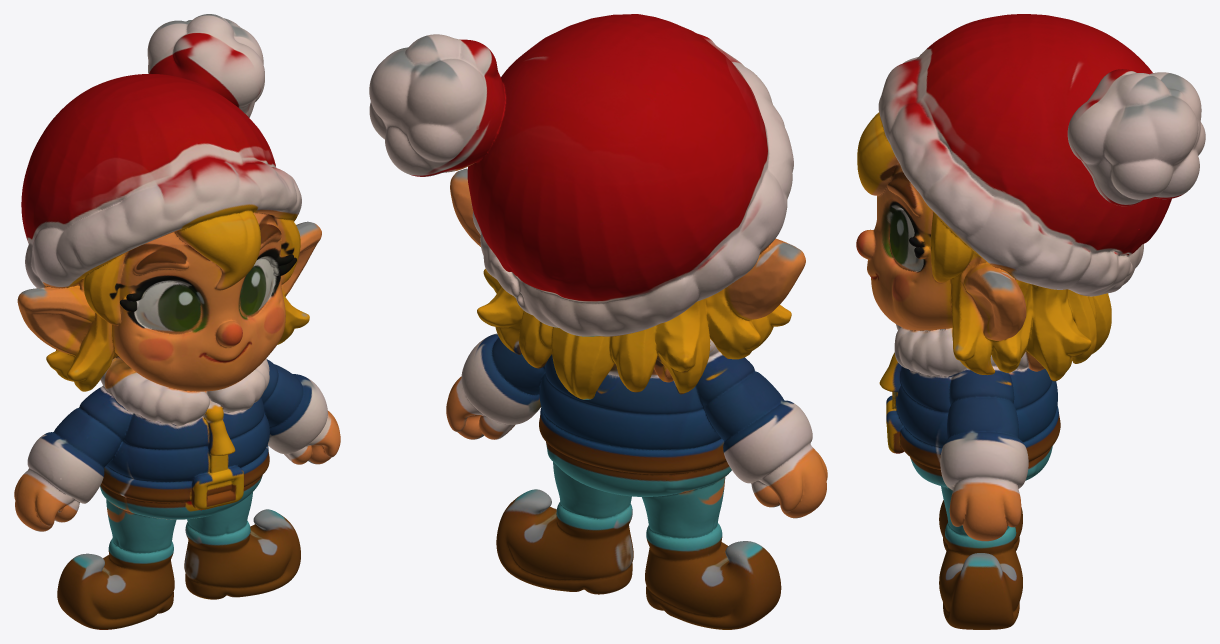
File: model1_tripo_elf.glb
The picture shows the model from 3 angles, left to right: view 1: azimuth 30°, elevation 25°; view 2: azimuth 150°, elevation 25°; view 3: azimuth 270°, elevation 25°; orthographic projection. The views are drawn at different scales.
Parts seen in each view (by area): view 1: tripo_node_fe3375e7-d605-4db8-93e6-d698cfac87fc; view 2: tripo_node_fe3375e7-d605-4db8-93e6-d698cfac87fc; view 3: tripo_node_fe3375e7-d605-4db8-93e6-d698cfac87fc.
Boxes of the visible parts, x1=… form: tripo_node_fe3375e7-d605-4db8-93e6-d698cfac87fc: x1=14, y1=14, x2=340, y2=629; tripo_node_fe3375e7-d605-4db8-93e6-d698cfac87fc: x1=369, y1=14, x2=827, y2=629; tripo_node_fe3375e7-d605-4db8-93e6-d698cfac87fc: x1=856, y1=14, x2=1205, y2=629.
Size of the model in its own units: 0.6559 by 1 by 0.5653.
Materials: 1 (1 with a texture image).
